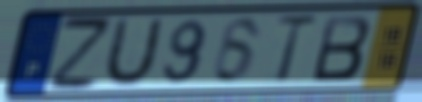6: (210, 16, 265, 85)
9: (164, 17, 209, 87)
B: (310, 13, 374, 84)
T: (273, 13, 320, 86)
U: (99, 15, 167, 91)
Z: (44, 14, 113, 93)
